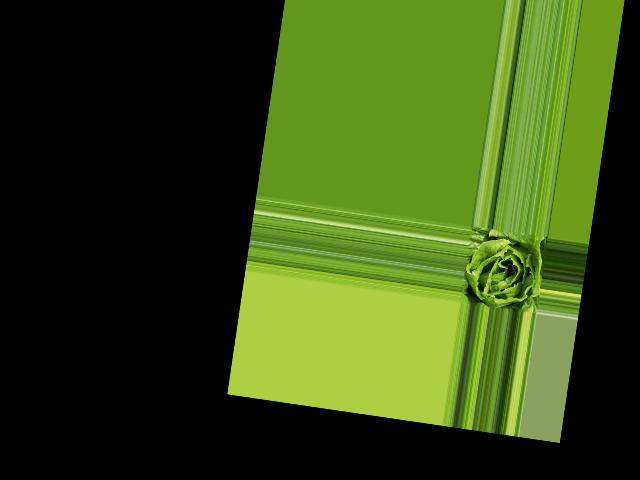lettuce: (460, 225, 547, 313)
